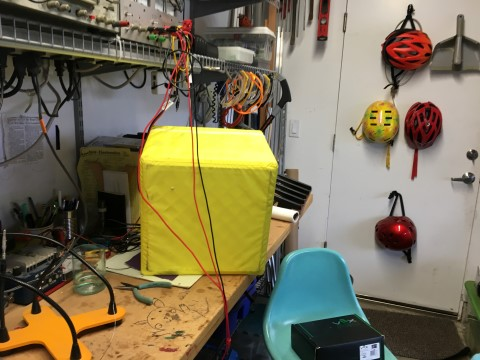cube: (140, 127, 279, 276)
